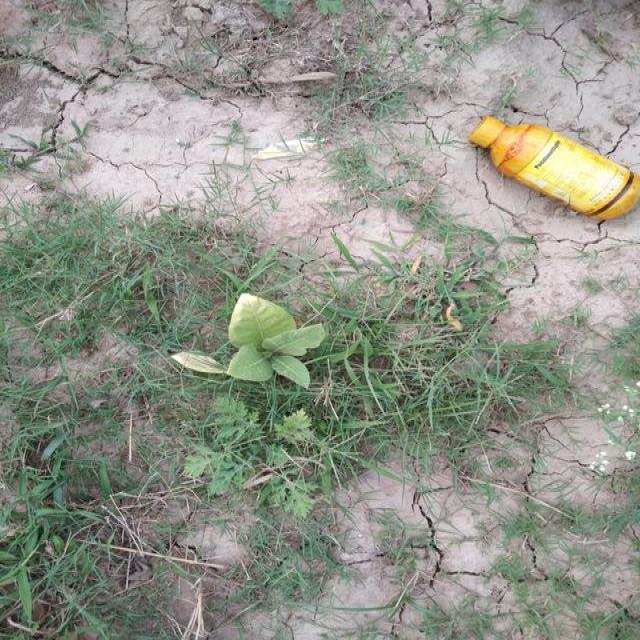crop: (222, 287, 331, 403)
